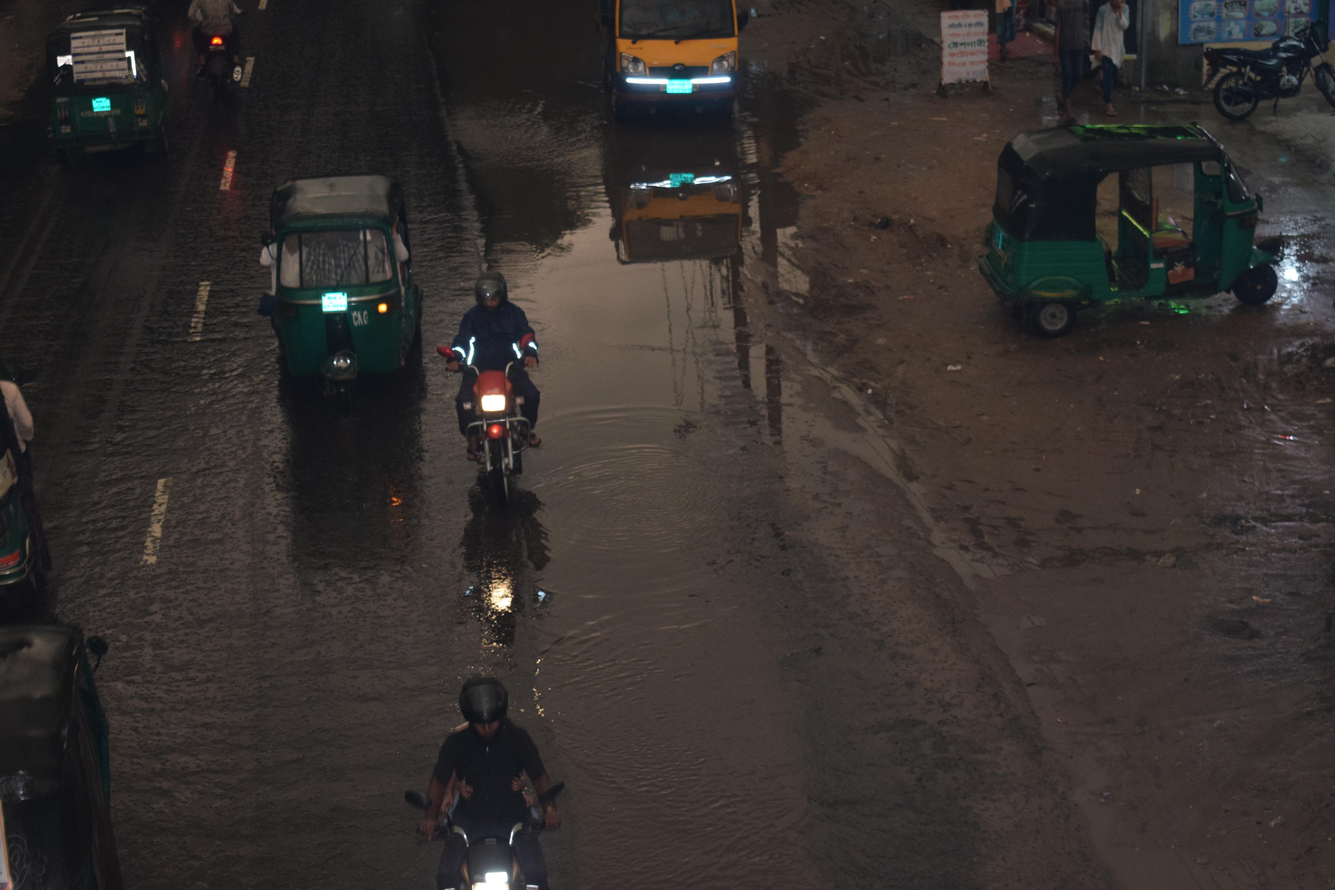Bike: (364, 635, 615, 890), (416, 250, 572, 548), (168, 0, 264, 100)
Truck: (583, 0, 795, 139)
